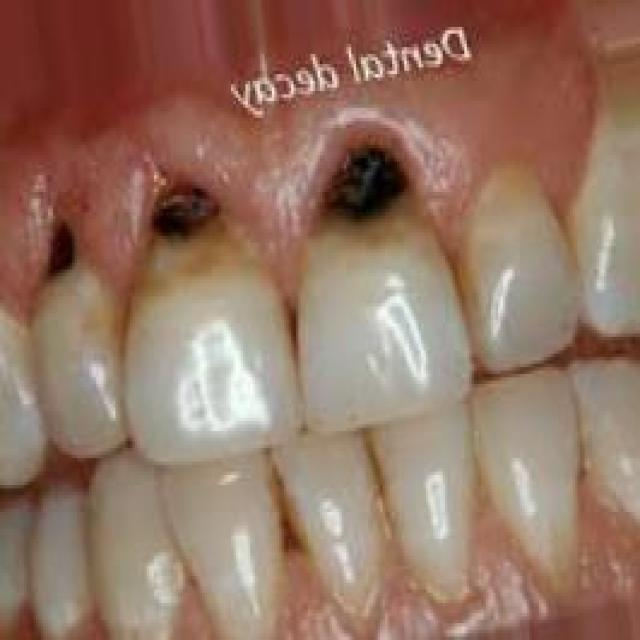caries: (287, 123, 424, 270), (134, 155, 252, 308), (22, 198, 103, 319)
